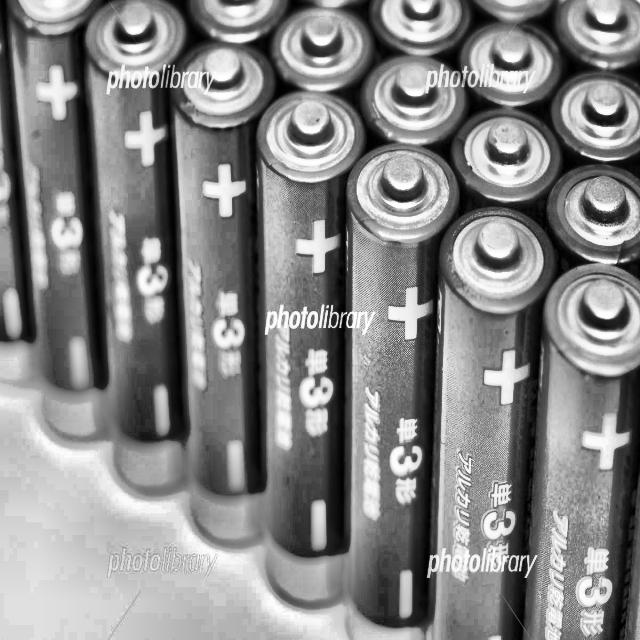drycell: (428, 204, 560, 638), (524, 262, 638, 640)
